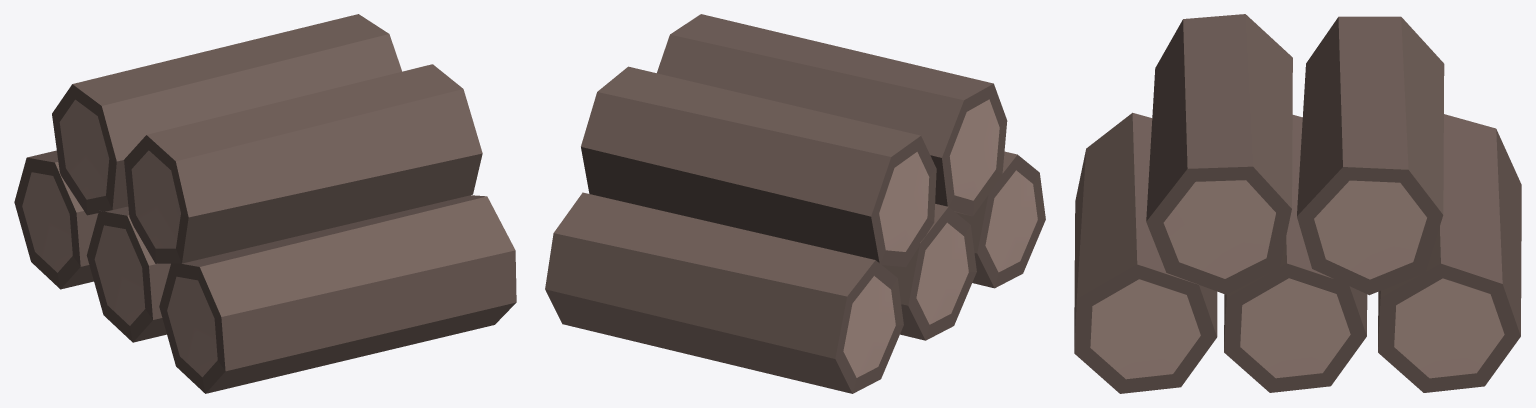
3 renders of one model, left to right at view 1: azimuth 30°, elevation 25°; view 2: azimuth 150°, elevation 25°; view 3: azimuth 270°, elevation 25°, orthographic. The views are drawn at different scales.
Parts seen in each view (by area): view 1: Wood_Logs; view 2: Wood_Logs; view 3: Wood_Logs.
Boxes of the visible parts, x1,y1,x2,y2 form: Wood_Logs: (14, 14, 516, 393); Wood_Logs: (545, 14, 1045, 393); Wood_Logs: (1074, 14, 1521, 393).
Bounding box in the file's own units: 0.9792 × 0.6941 × 1.22.
